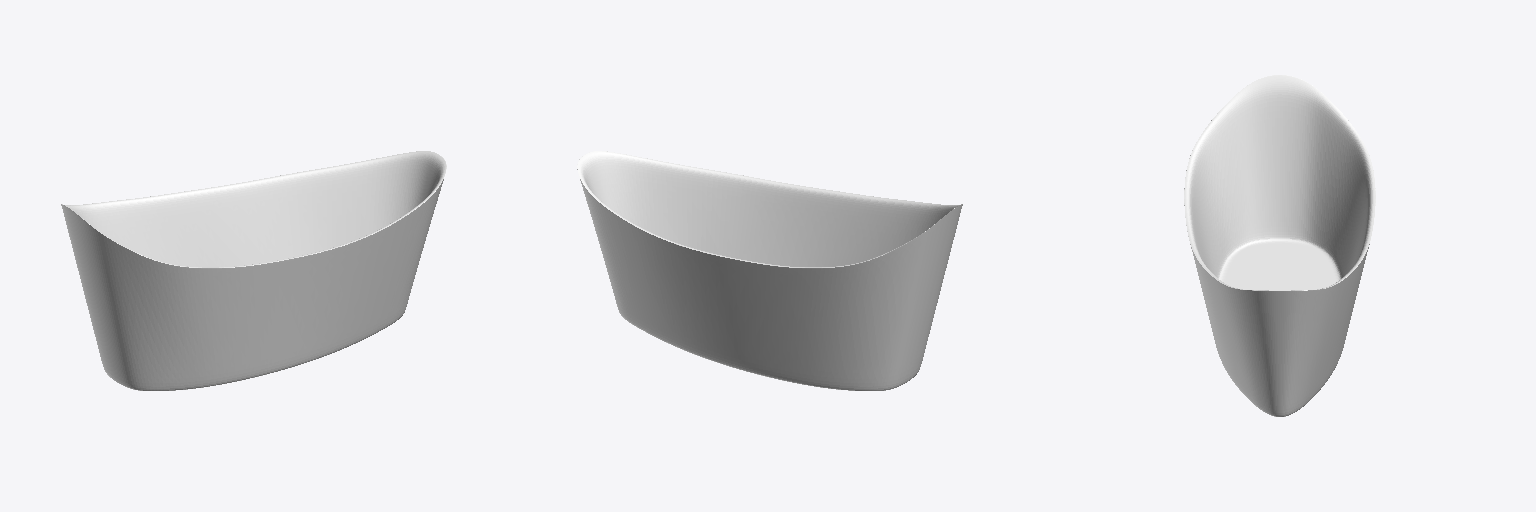
The model's file is wannaC.obj.
The picture shows the model from 3 angles: view 1: azimuth 30°, elevation 25°; view 2: azimuth 150°, elevation 25°; view 3: azimuth 270°, elevation 25°; orthographic projection.
Visible parts, largest first — view 1: Wanna_22.06; view 2: Wanna_22.06; view 3: Wanna_22.06.
Part boxes in pixels (left/top/right/bottom): Wanna_22.06: left=61, top=151, right=446, bottom=390; Wanna_22.06: left=577, top=151, right=962, bottom=390; Wanna_22.06: left=1184, top=75, right=1375, bottom=416.
Size of the model in its own units: 17.8 by 8.4 by 8.